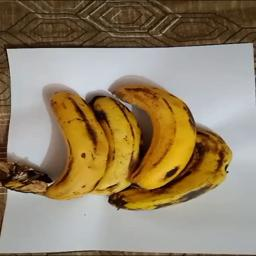Banana Semifresh: (3, 87, 240, 207)
